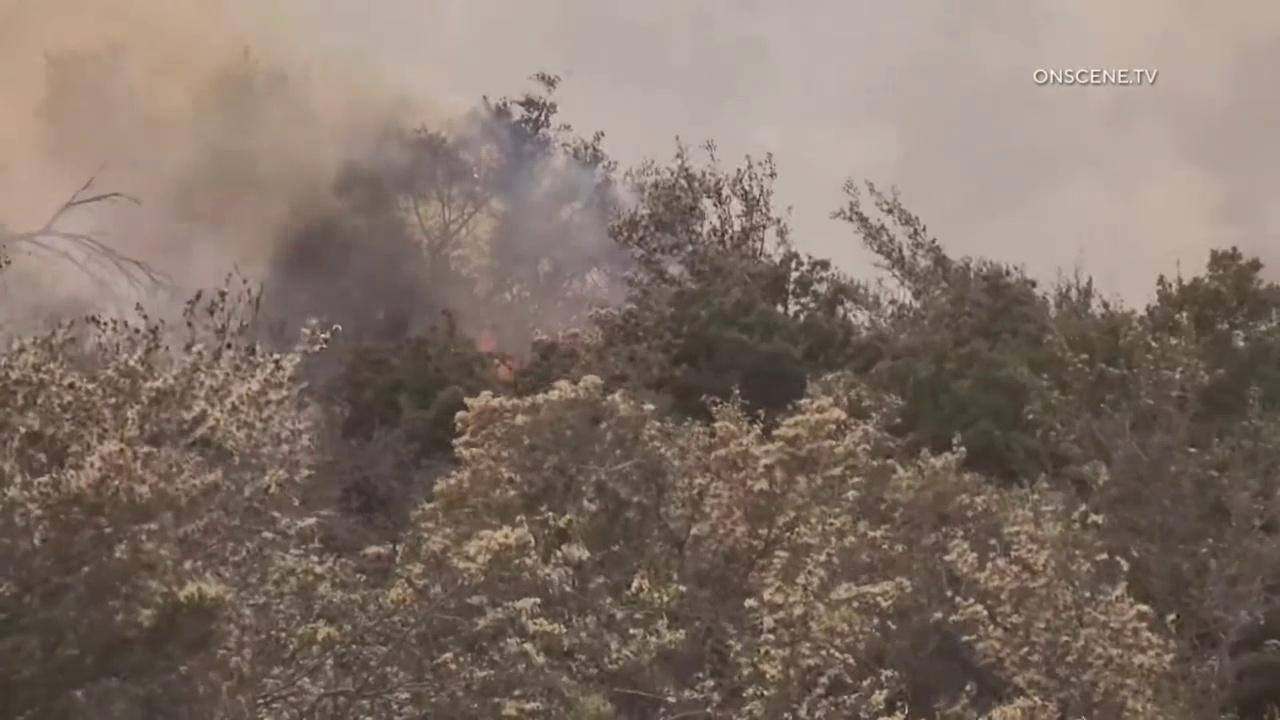fire: (474, 330, 523, 381)
smoke: (0, 0, 1280, 383)
